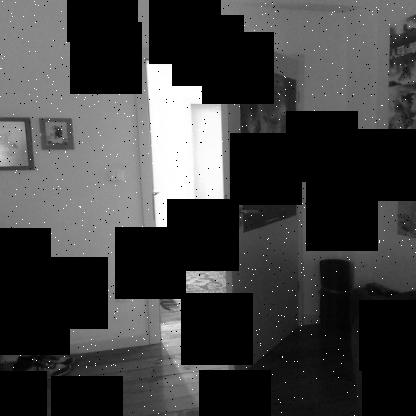Porte: (130, 32, 308, 384)
